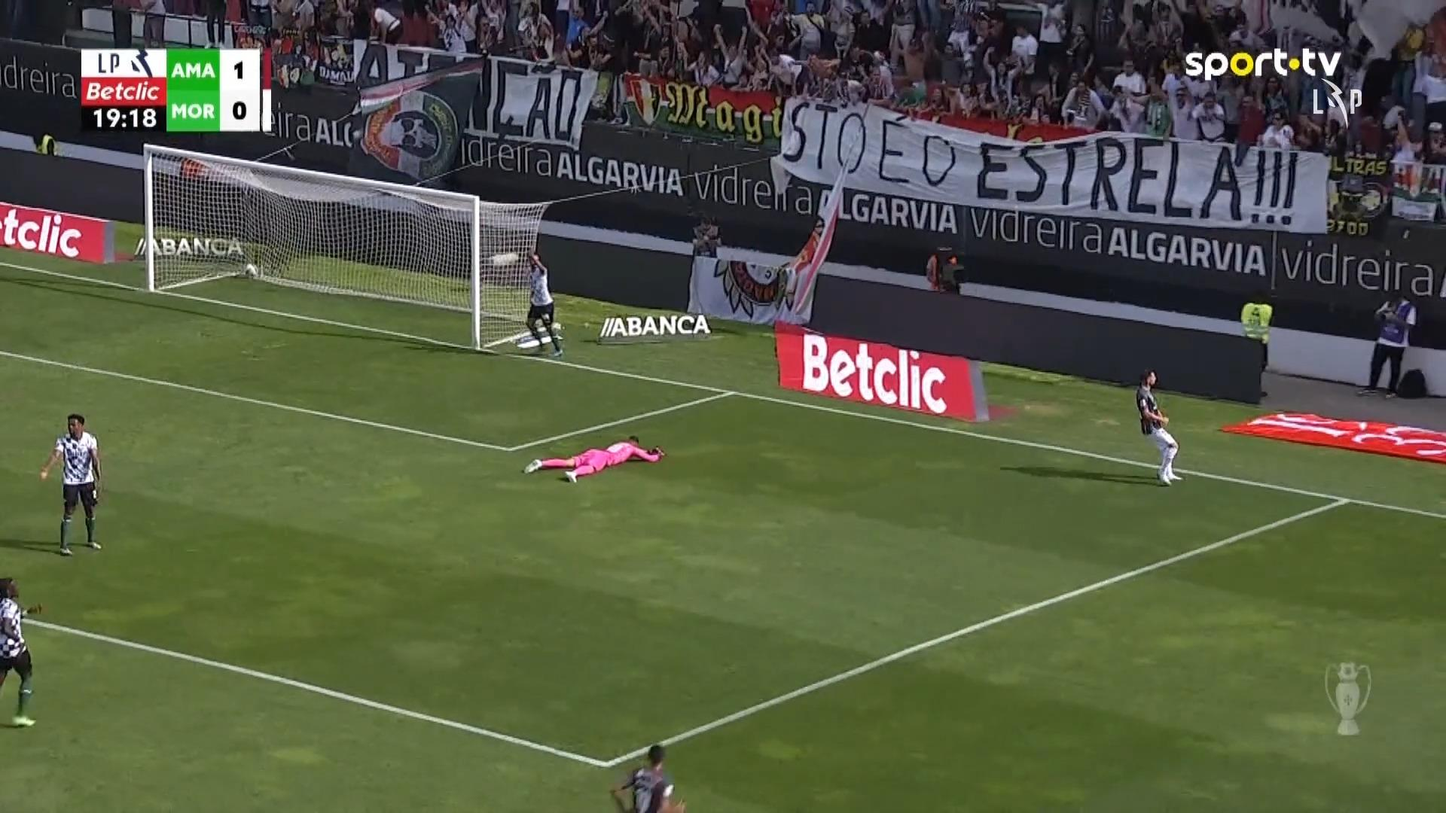ball: (243, 263, 258, 279)
goalkeeper: (521, 434, 665, 484)
player: (38, 412, 103, 556), (0, 576, 41, 726), (1134, 368, 1179, 486), (515, 251, 564, 358), (609, 742, 683, 811)
